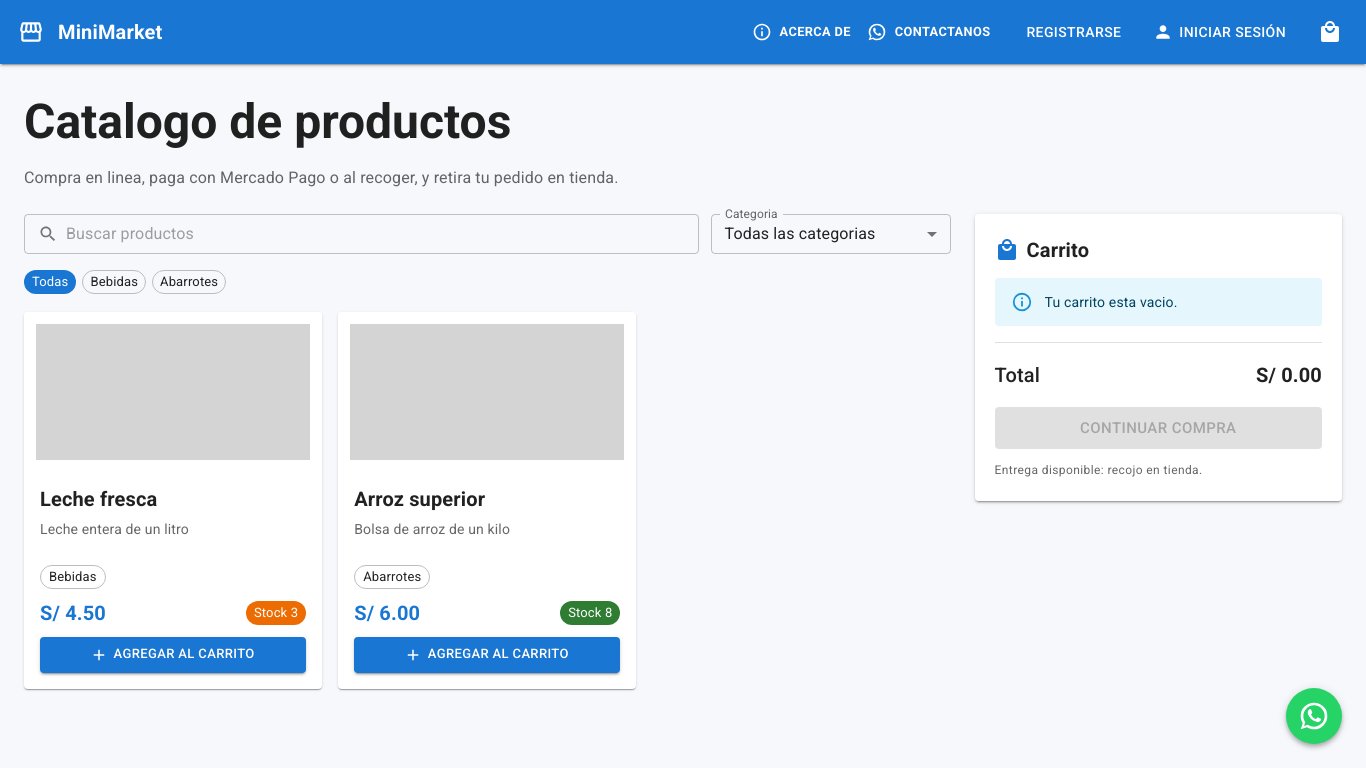
Test: ClienteTiendaPage - catalogo y carrito › respeta el stock maximo y permite eliminar un producto del carrito
This screenshot has width=1366, height=768.
Expected: the heading "Leche fresca" is shown, [40,487,157,511]
What coordinates should you click on to do the following:
click the button "Agregar al carrito" below "S/ 4.50"
I would click on:
 (173, 655)
Its box is [40,637,306,673].
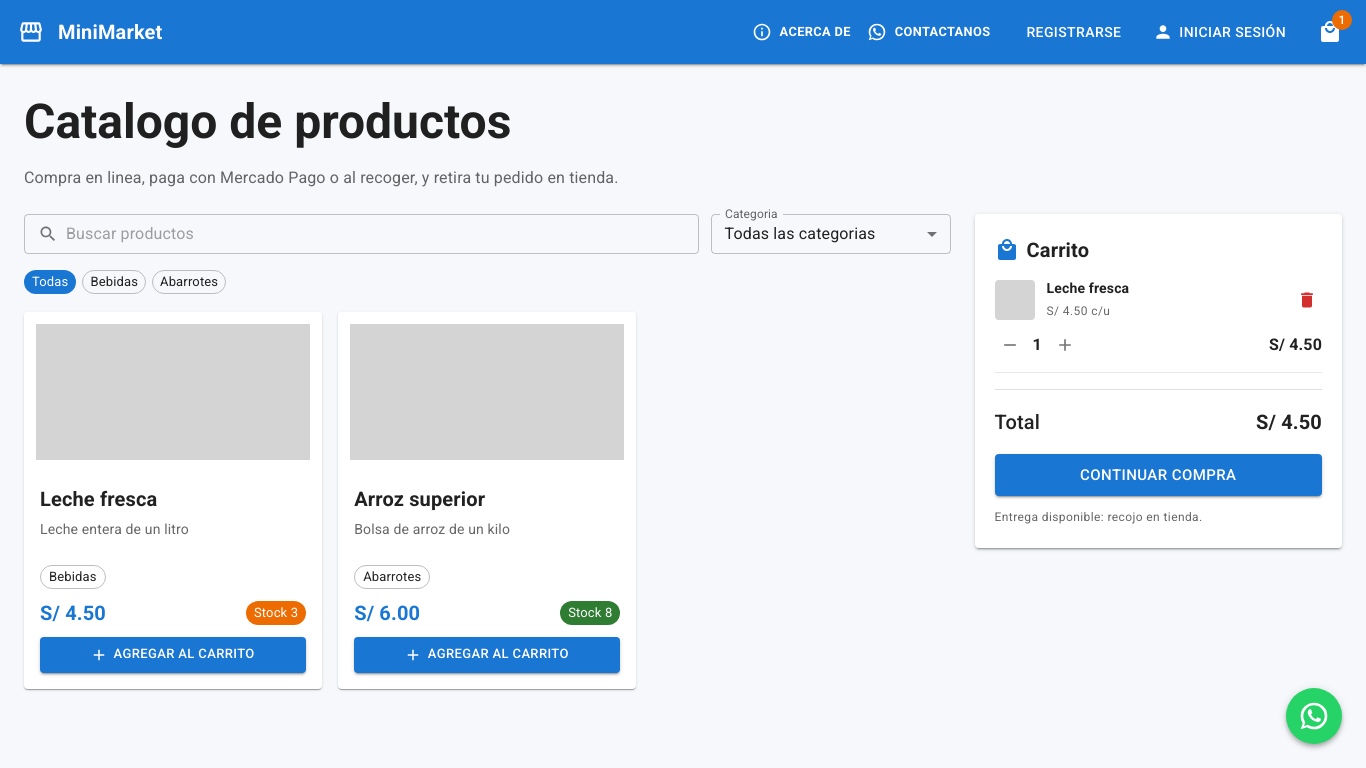
What coordinates should you click on to do the following:
click the button "Agregar al carrito" below "Stock 3"
I would click on:
 (173, 655)
Its box is [40,637,306,673].
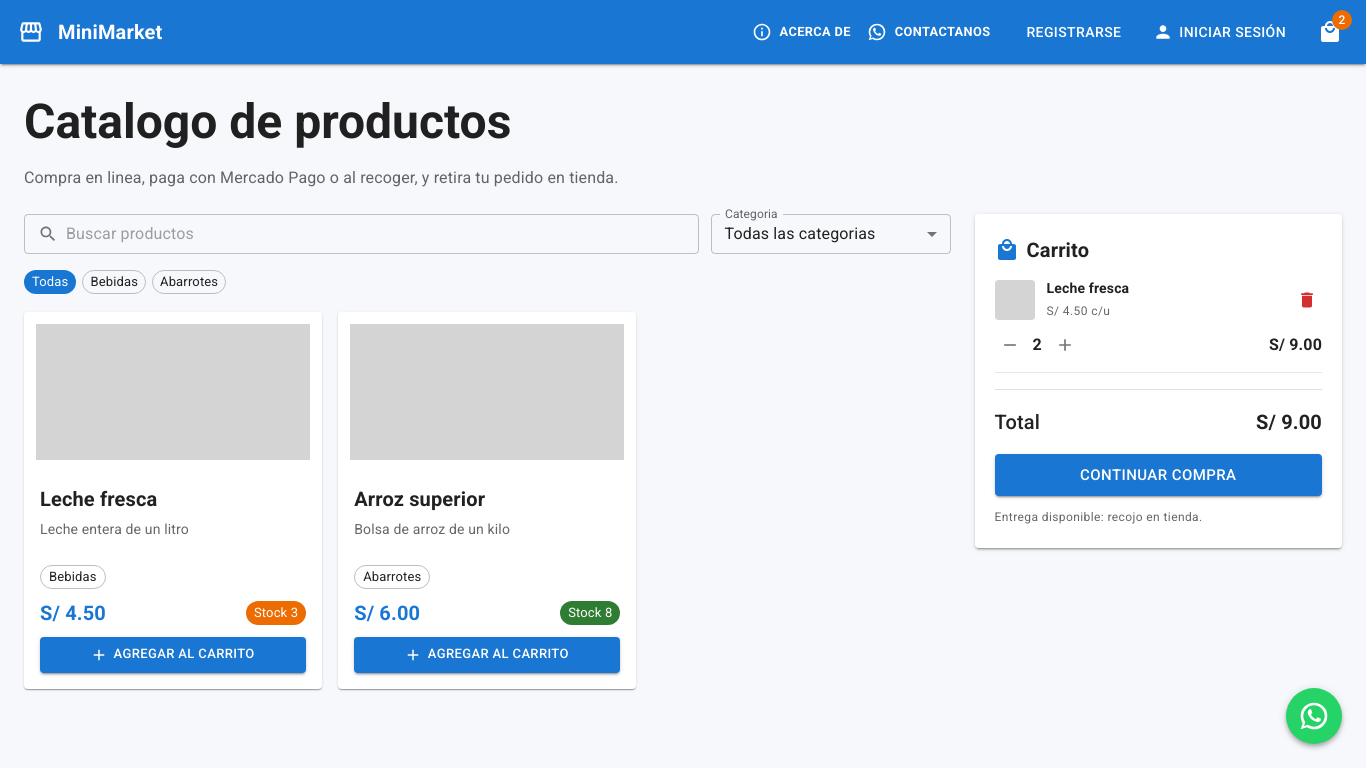
What coordinates should you click on to do the following:
click the button "Agregar al carrito" below "Stock 3"
I would click on:
 (173, 655)
Its box is [40,637,306,673].
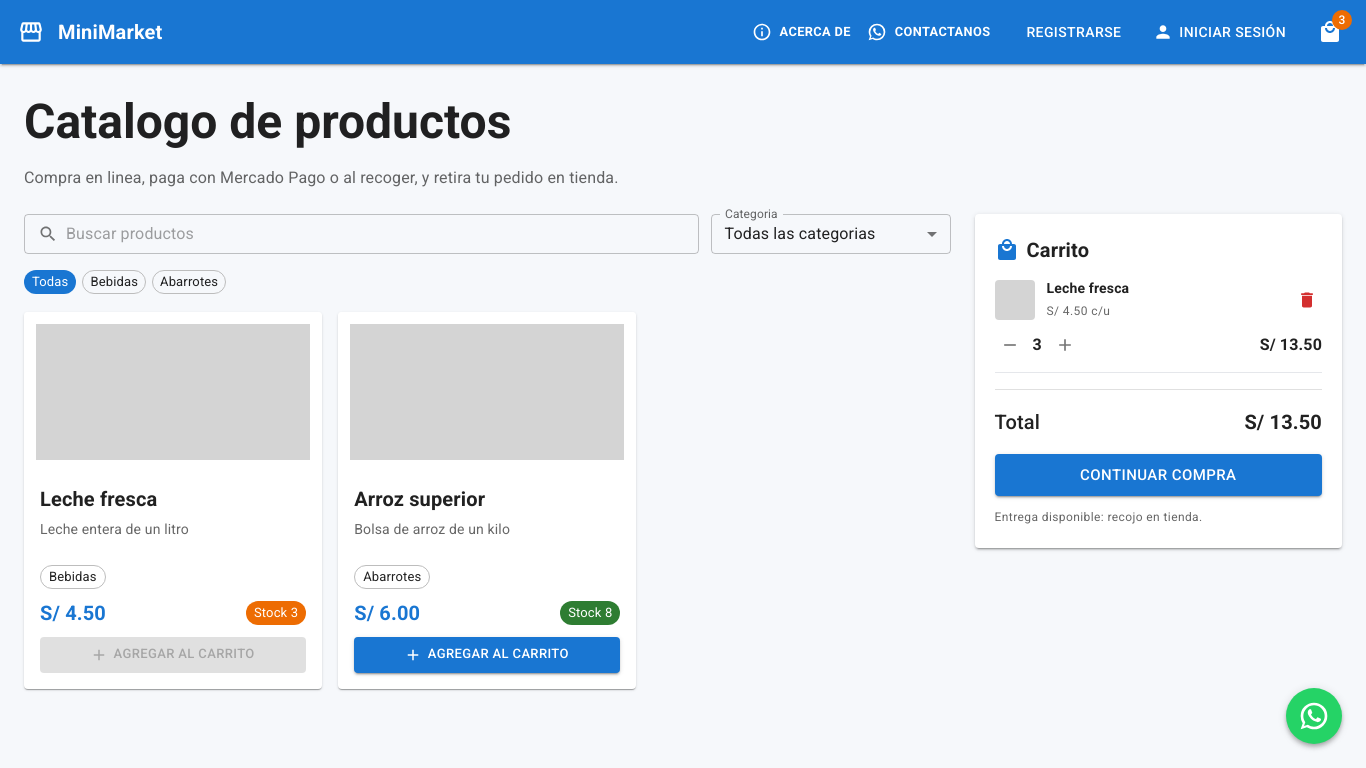
Expected: the button "Agregar al carrito" below "Stock 3" is disabled, [40,637,306,673]
Expected: the text "3" below "c/u" is shown, [1033,335,1042,354]
What coordinates should you click on to do the following:
click the button named "Eliminar Leche fresca del carrito"
I would click on:
 (1307, 300)
Its box is [1292,285,1322,315].
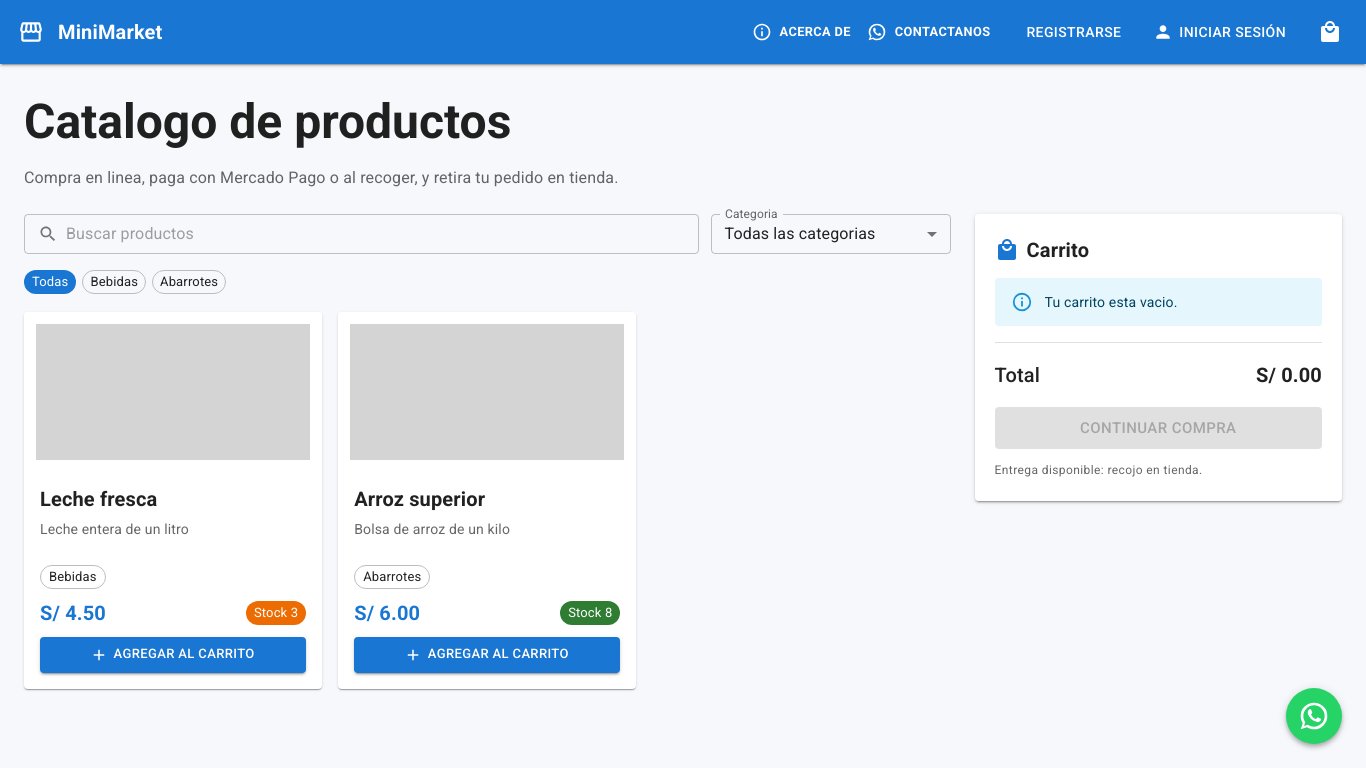
Expected: the text "Tu carrito esta vacio." is shown, [1045,294,1178,310]
Expected: the button "Continuar compra" is disabled, [995,407,1322,449]
